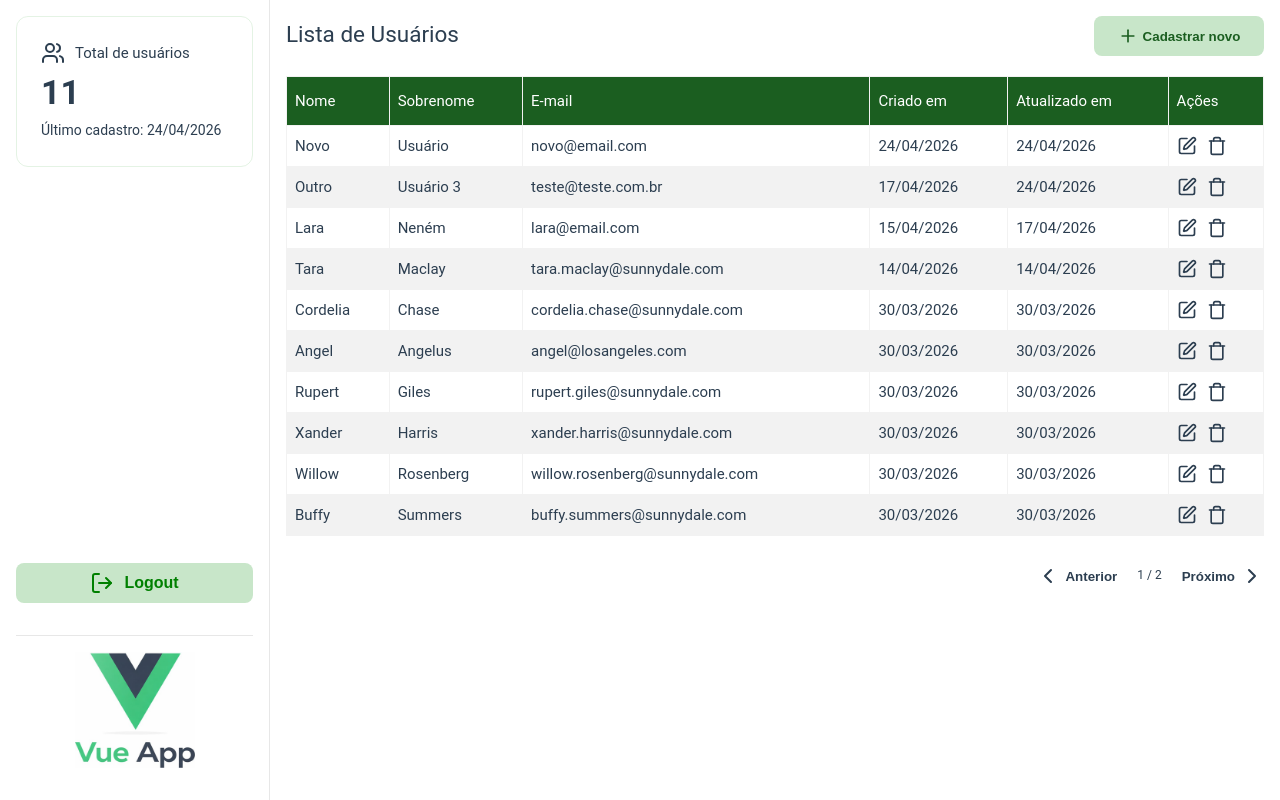
Test: Users Delete › Should select user, open dialog, delete successfully and fetch updated list
The image size is (1280, 800).
Expected: the cell "Novo" is shown, [286,126,389,166]
Click the 1st icon with test id "delete-user" at {"x": 1217, "y": 146}, box [1207,136,1227,156]
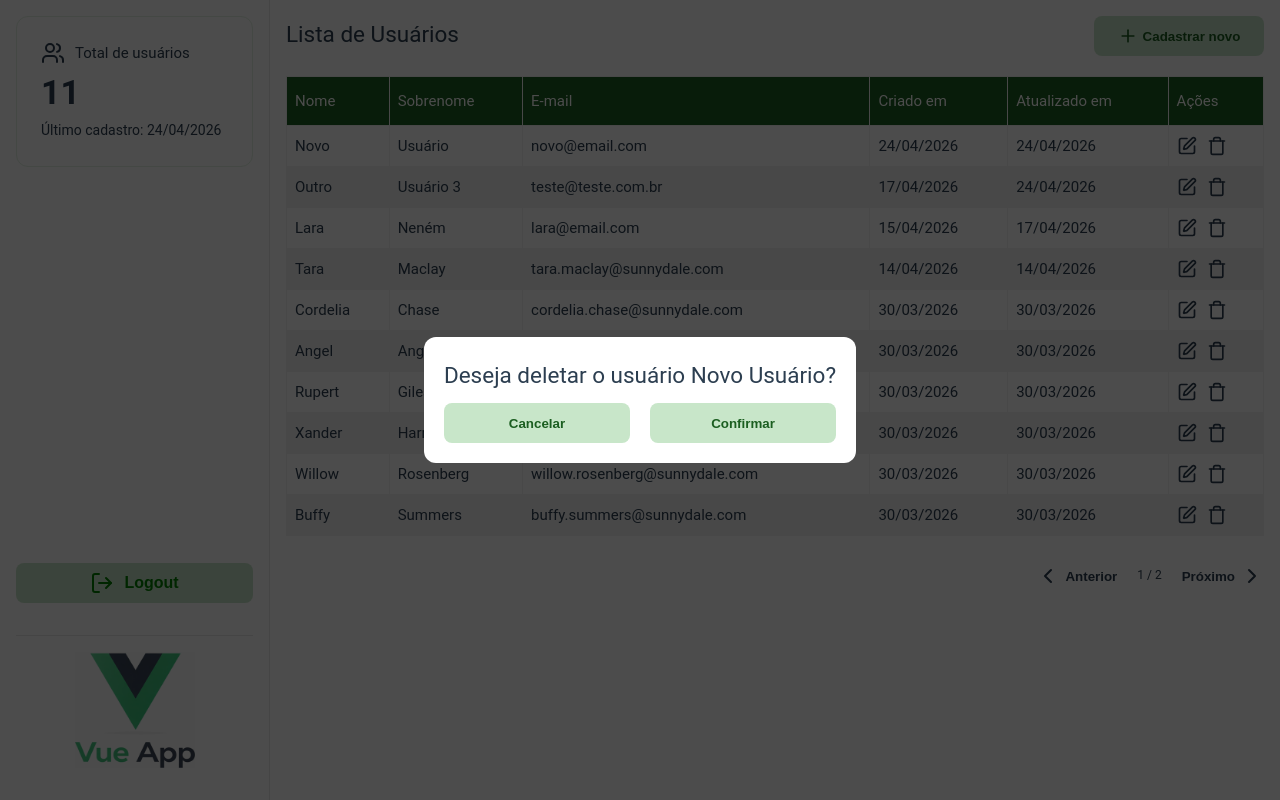
Now the heading with test id "delete-title" reads "Deseja deletar o usuário Novo Usuário?", box [444,357,836,393]
Click the button "Confirmar" at {"x": 743, "y": 423}, box [650,403,836,443]
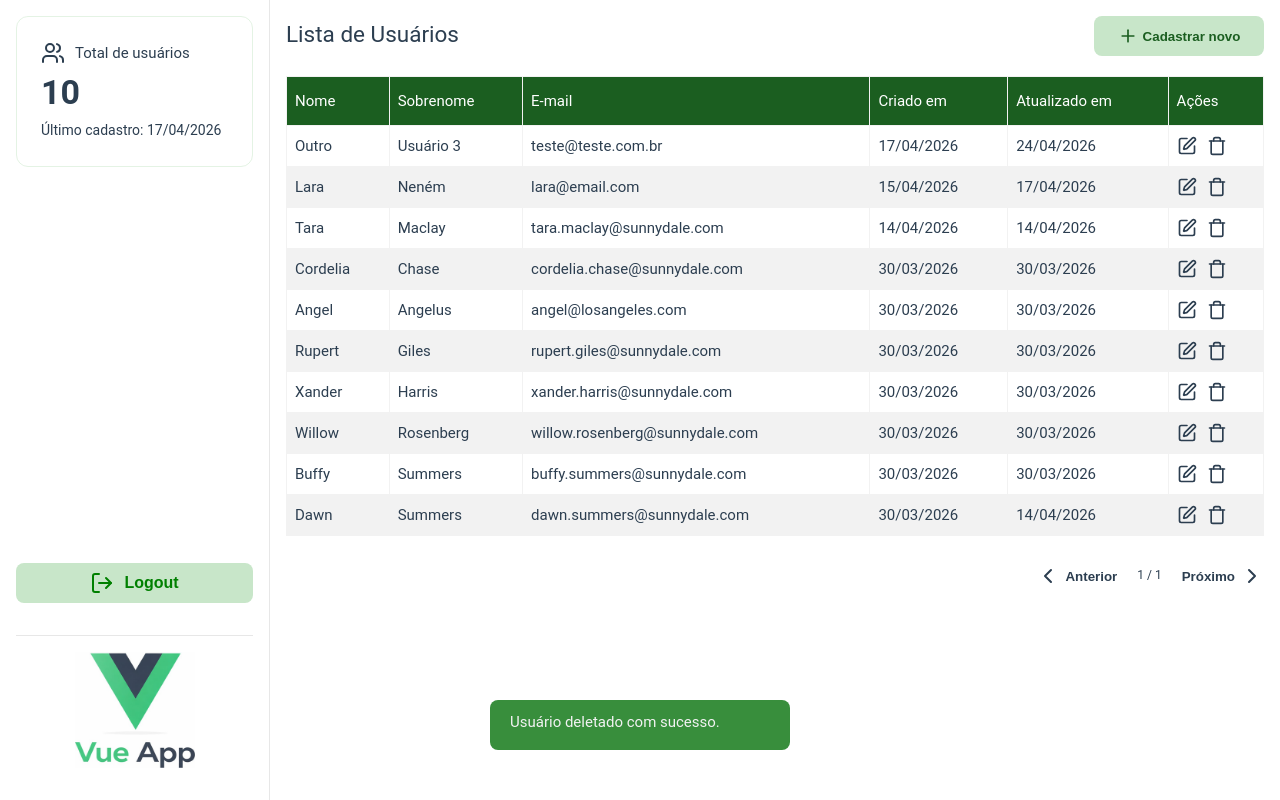
Now the element with test id "snackbar" reads "Usuário deletado com sucesso.", box [490,700,790,750]
Now the dialog with class "modal-wrapper" is gone
Now the cell "Outro" is shown, box [286,126,389,166]
